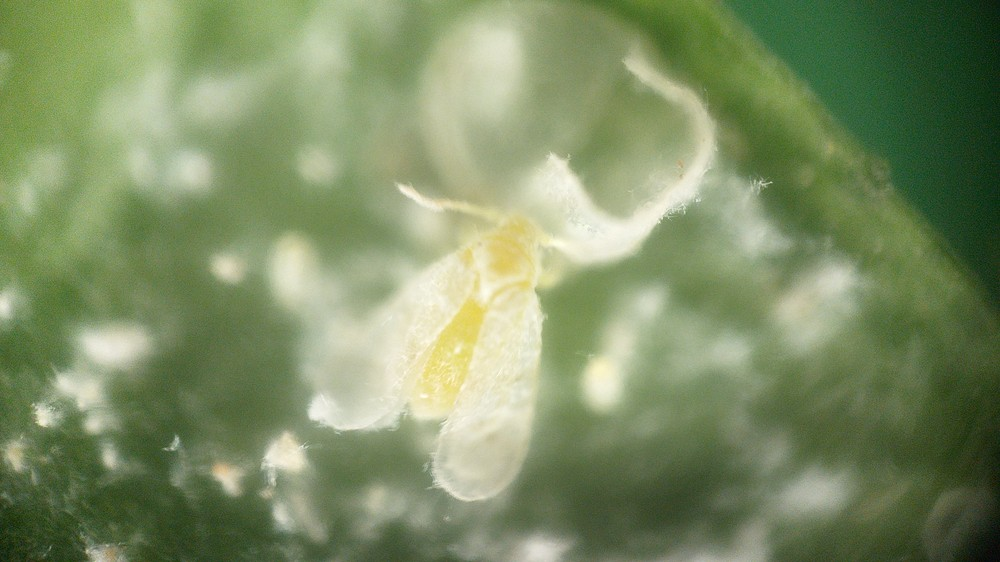Mosca Blanca: (303, 176, 619, 511)
